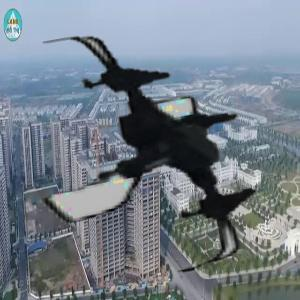drone: (22, 24, 279, 281)
